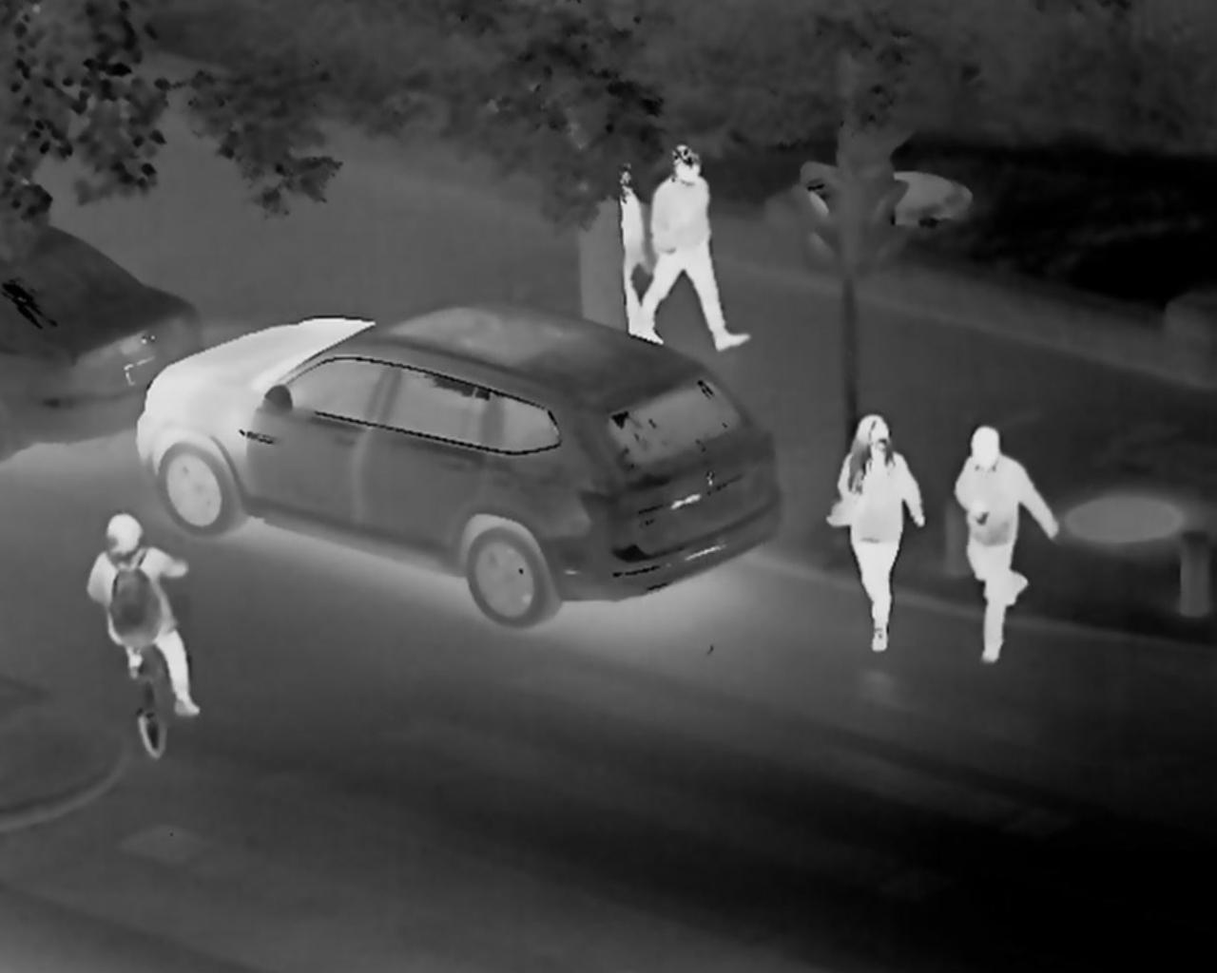person: (950, 420, 1058, 667), (80, 507, 203, 722), (824, 409, 923, 657), (635, 142, 751, 352), (601, 159, 647, 344)
